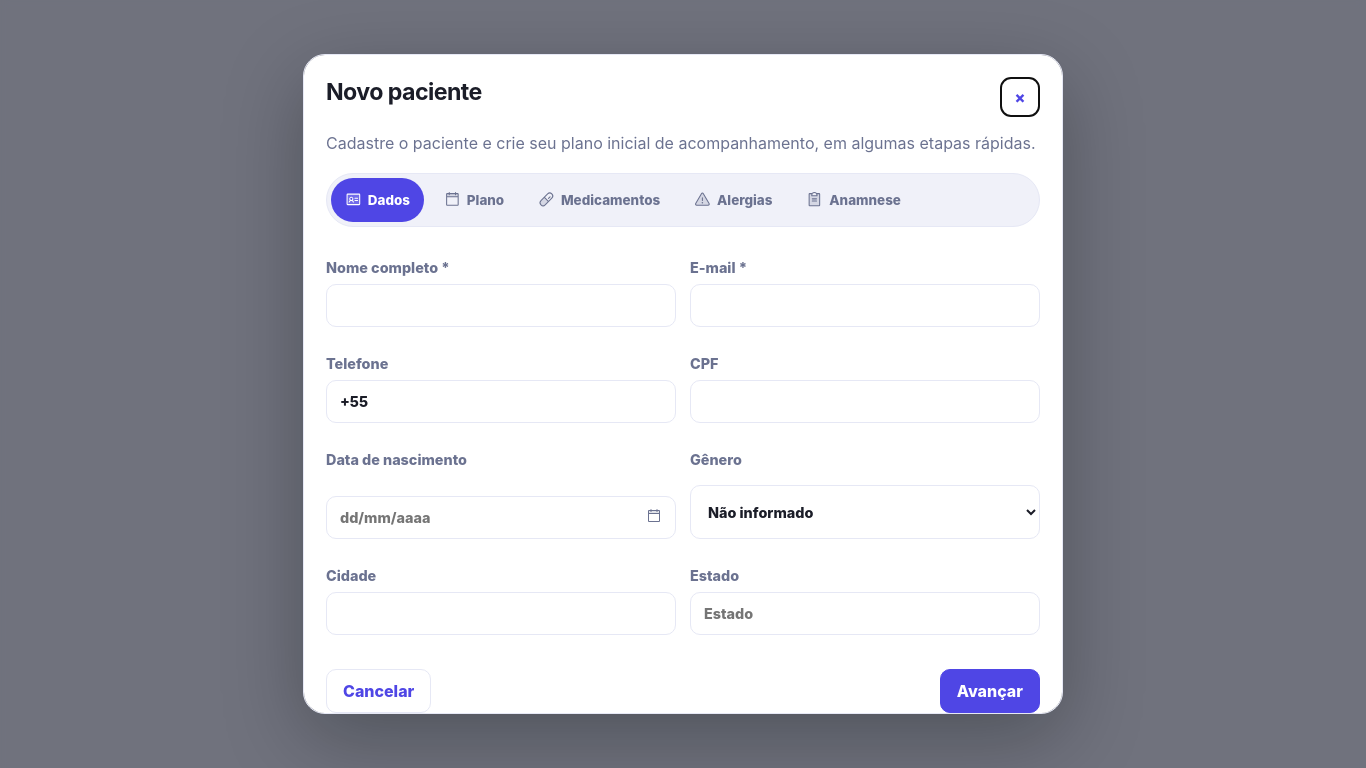
Scenario: cadastro profissional de pacientes › só mostra o botão Cadastrar paciente na última etapa do assistente
Expected: the button "Cadastrar paciente" is not shown
Step 1. Click the button "Anamnese" → (854, 200), box 792,178 -> 915,222
(page scrolled)
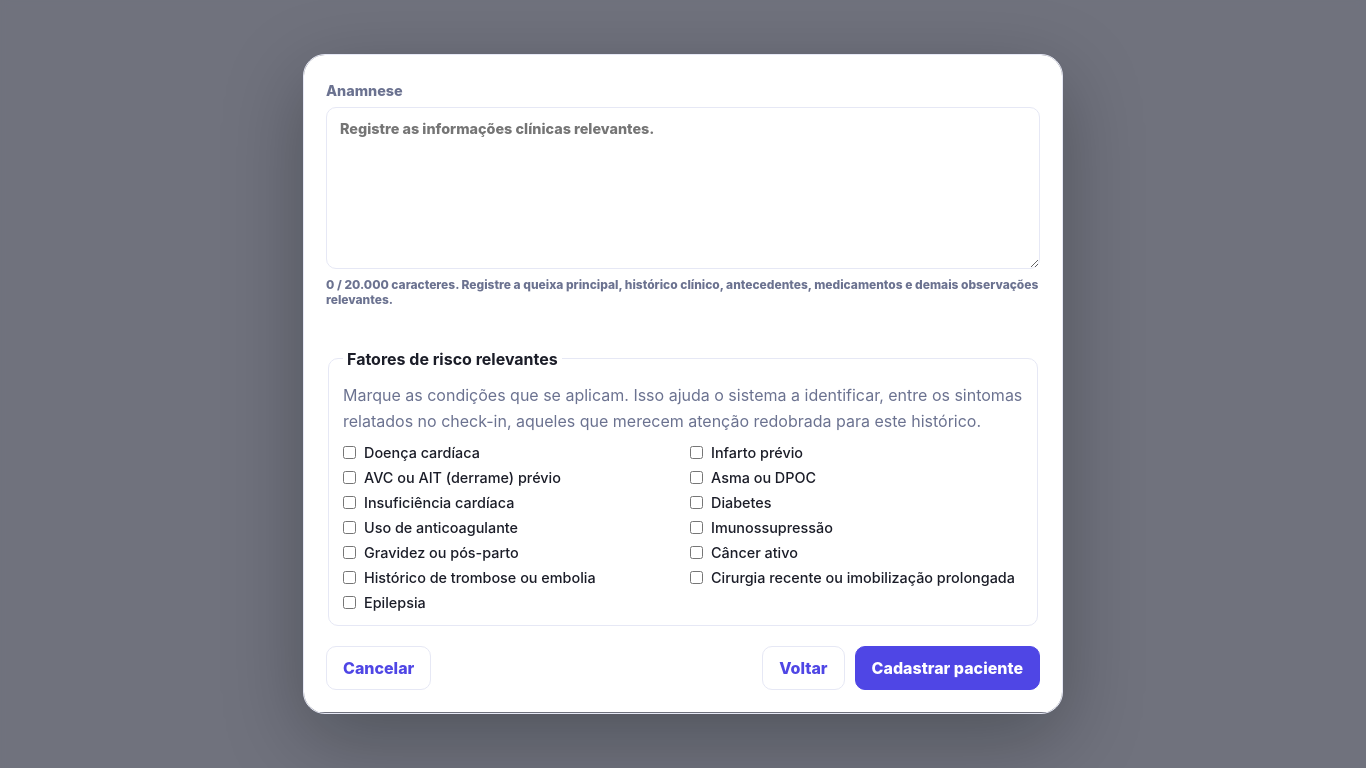
Result: the button "Cadastrar paciente" is shown at 855,646 -> 1040,690
